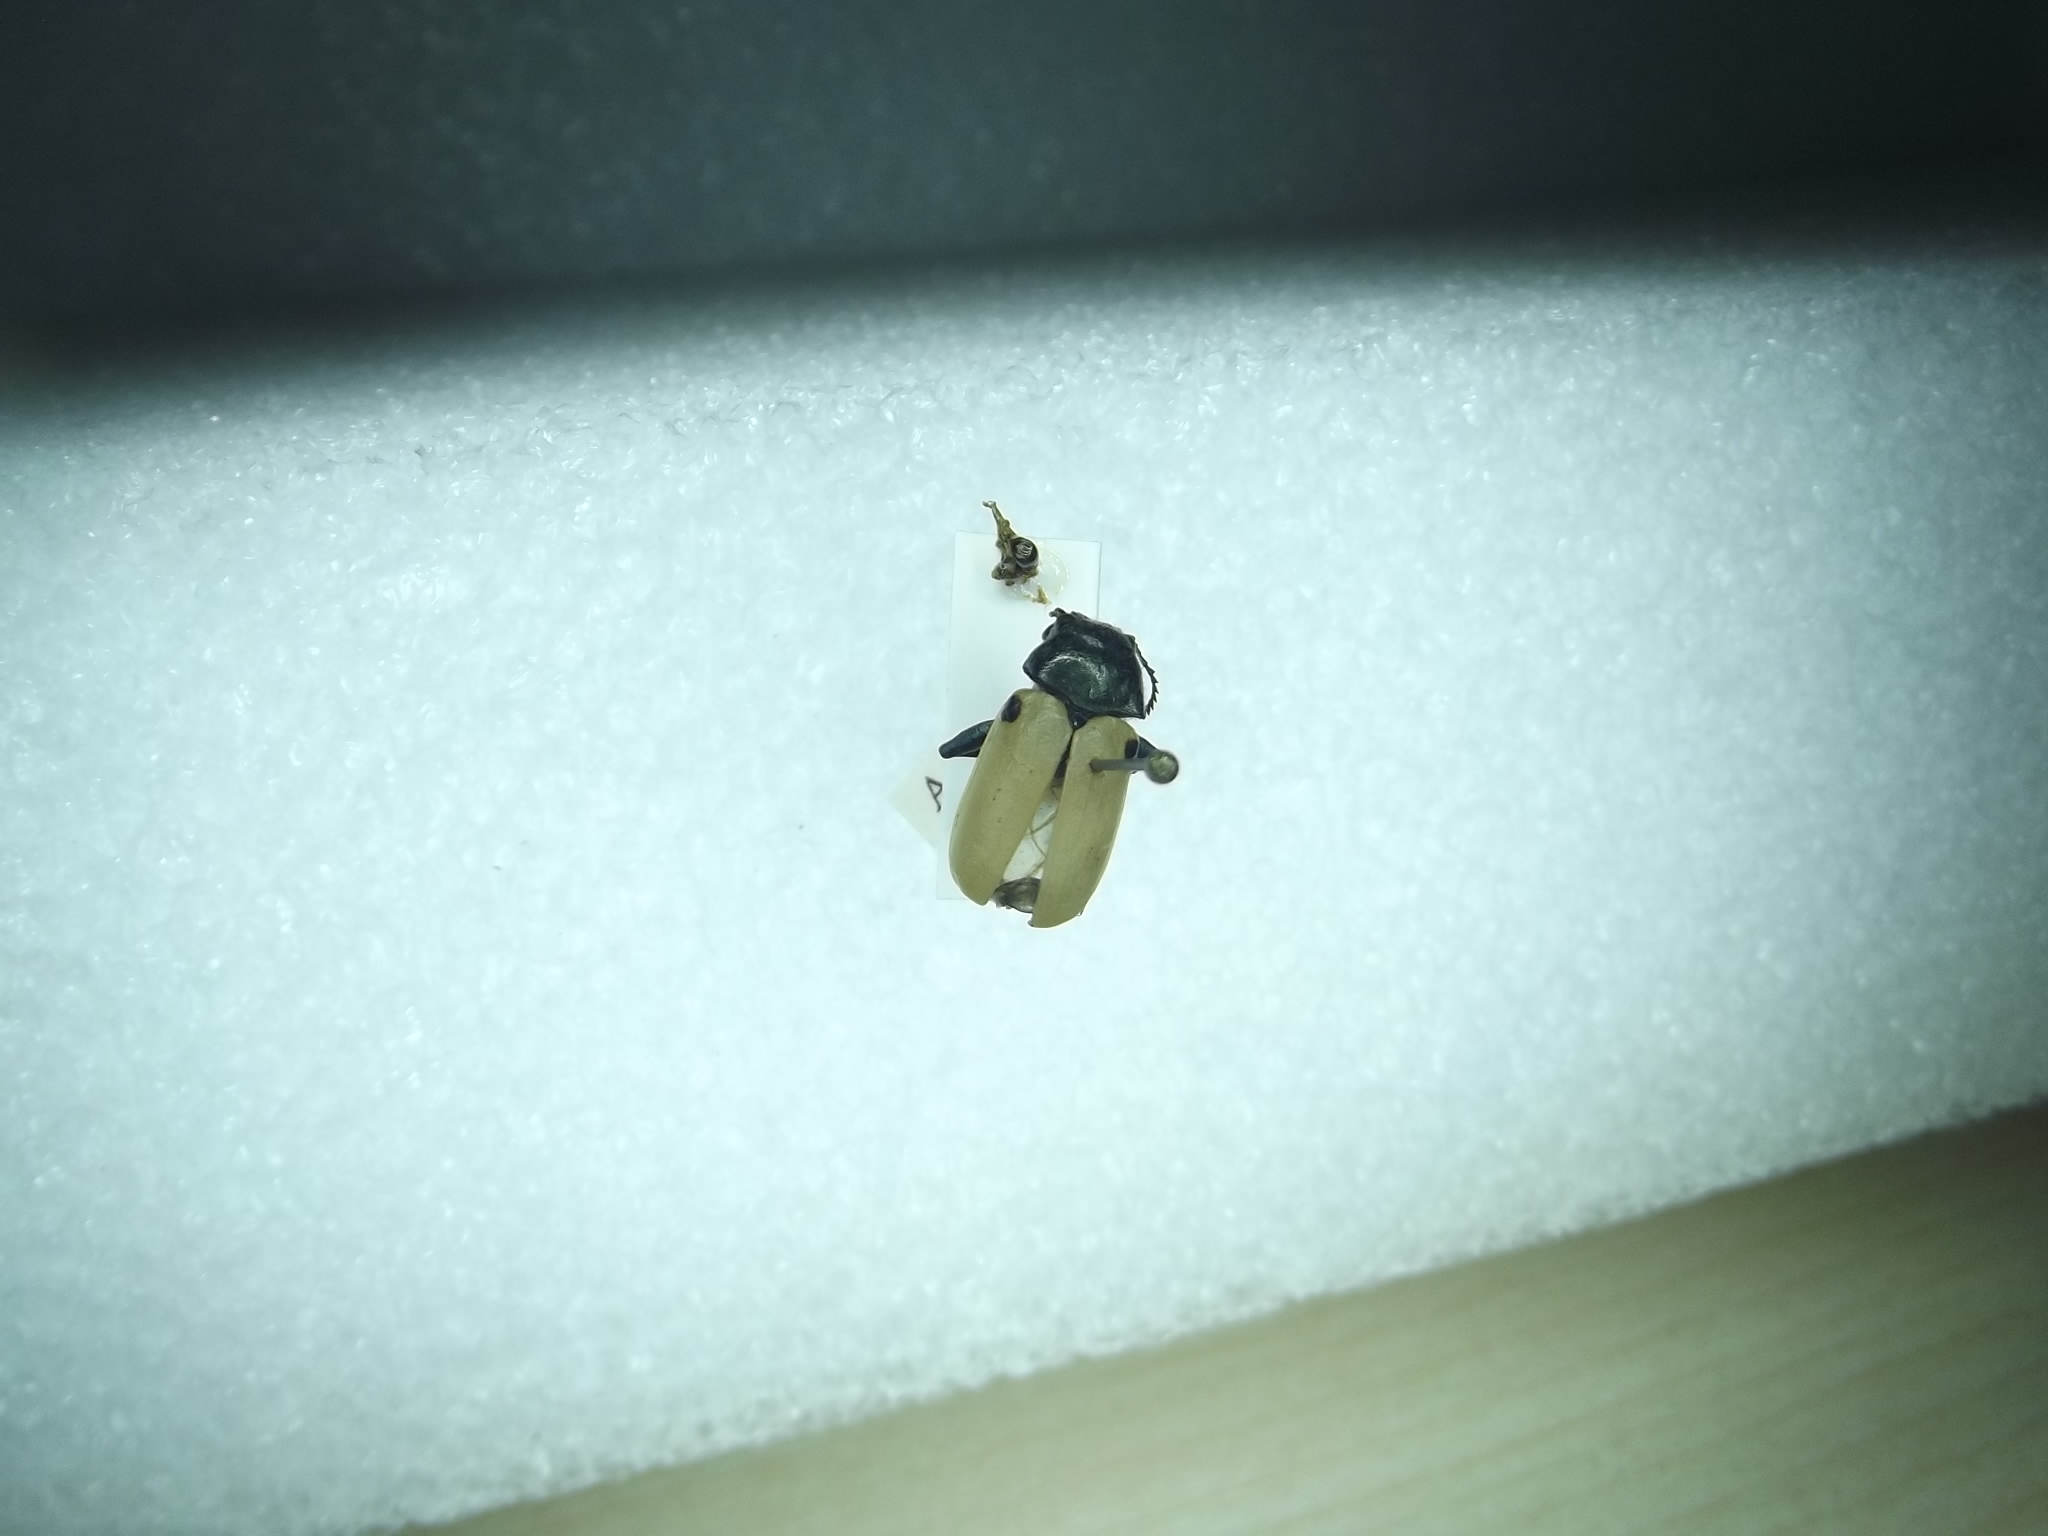Labidostomis_asiatica: (927, 595, 1156, 931)
